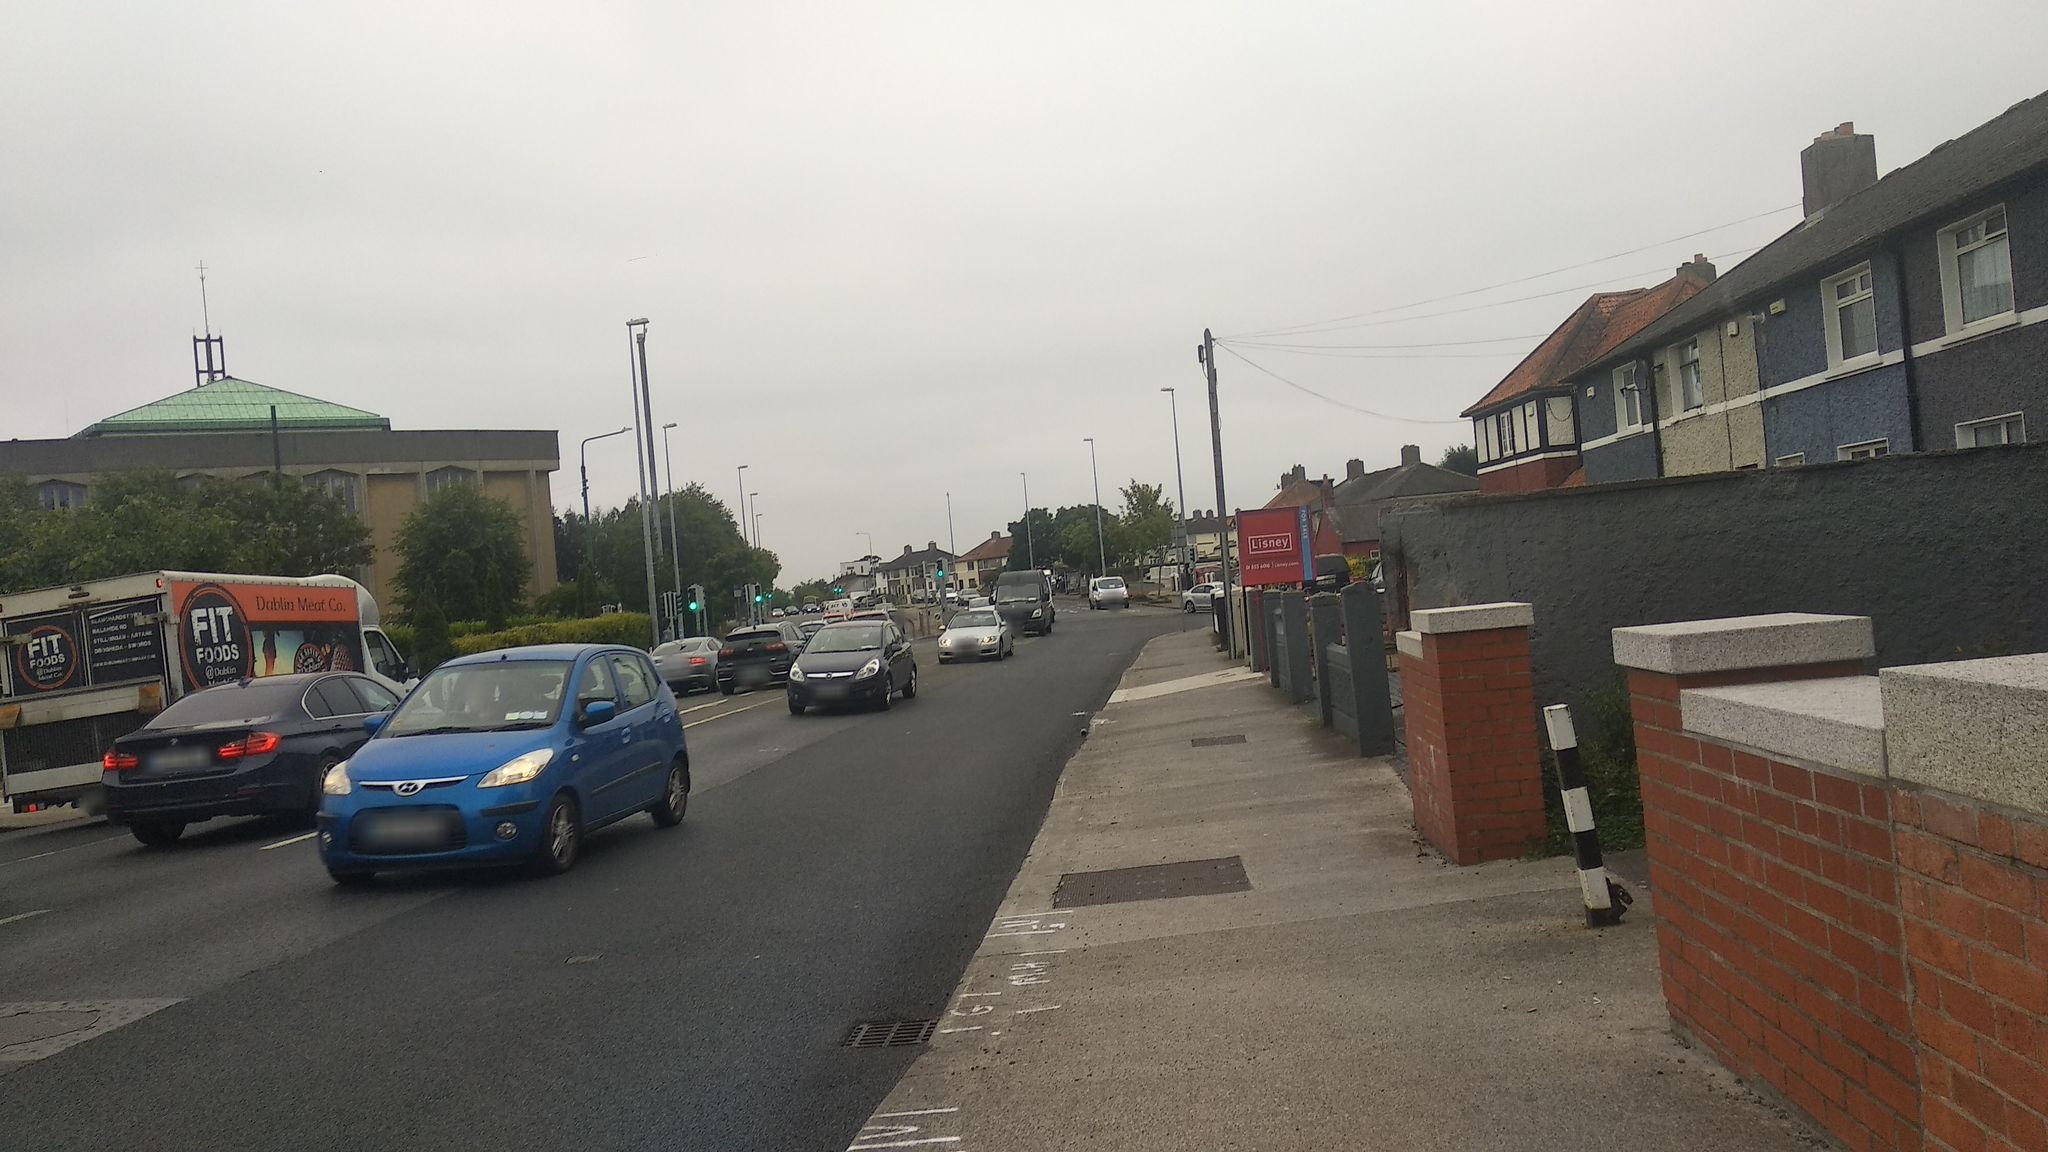property sign: (1229, 482, 1325, 601)
